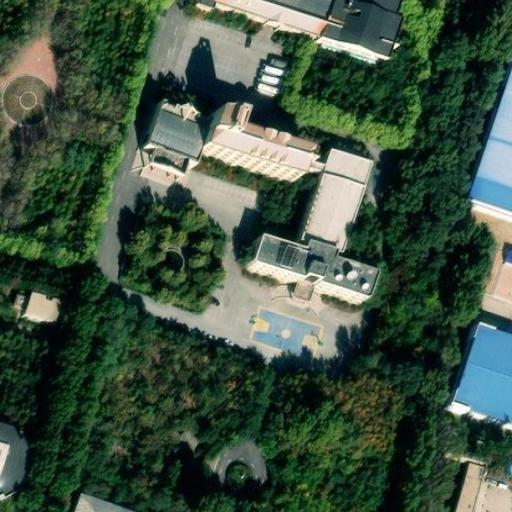building: (245, 233, 367, 298), (288, 141, 363, 246), (465, 64, 511, 230), (202, 121, 314, 187), (444, 331, 512, 429), (140, 101, 207, 161), (0, 415, 30, 493), (453, 455, 490, 512), (8, 283, 60, 322), (69, 487, 147, 512), (484, 245, 512, 304)
